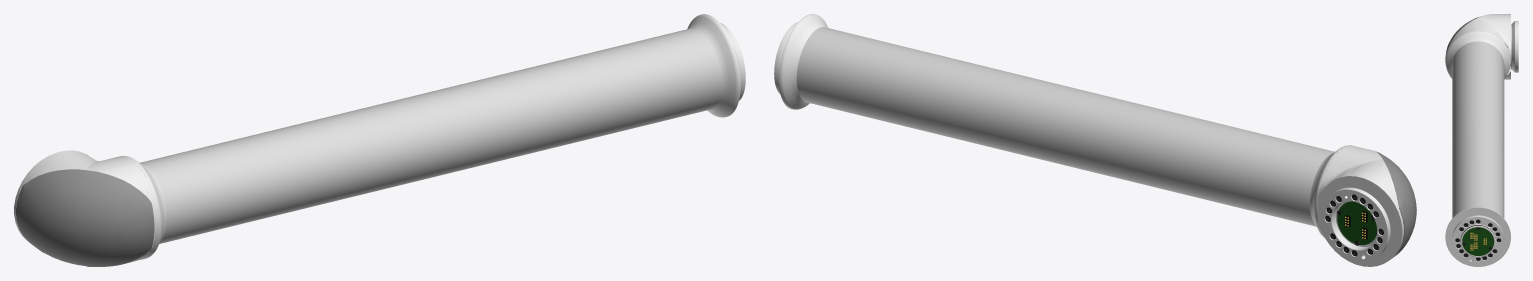
The picture shows the model from 3 angles, left to right: view 1: azimuth 30°, elevation 25°; view 2: azimuth 150°, elevation 25°; view 3: azimuth 270°, elevation 25°; orthographic projection. The views are drawn at different scales.
Parts seen in each view (by area): view 1: L86.001; view 2: L86.001; view 3: L86.001.
Part boxes in pixels (<box>): L86.001: <box>14,14,745,266</box>; L86.001: <box>774,14,1416,266</box>; L86.001: <box>1445,14,1518,266</box>.
Size of the model in its own units: 0.6479 by 0.0861 by 0.0961.
